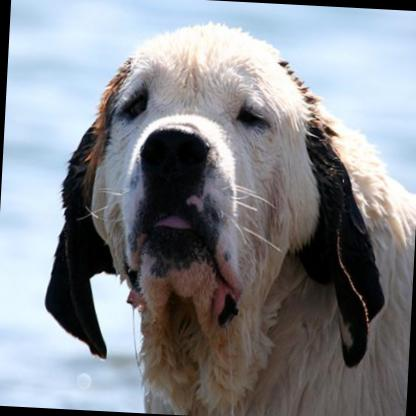Saint_Bernard: (38, 6, 416, 416)
